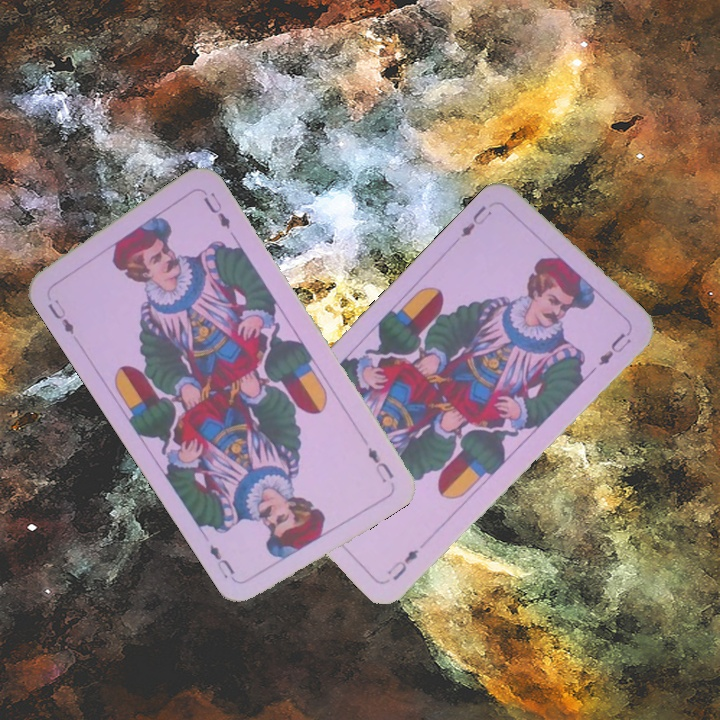EU: (456, 201, 494, 241), (383, 545, 421, 584), (43, 295, 77, 337), (363, 443, 396, 486)
